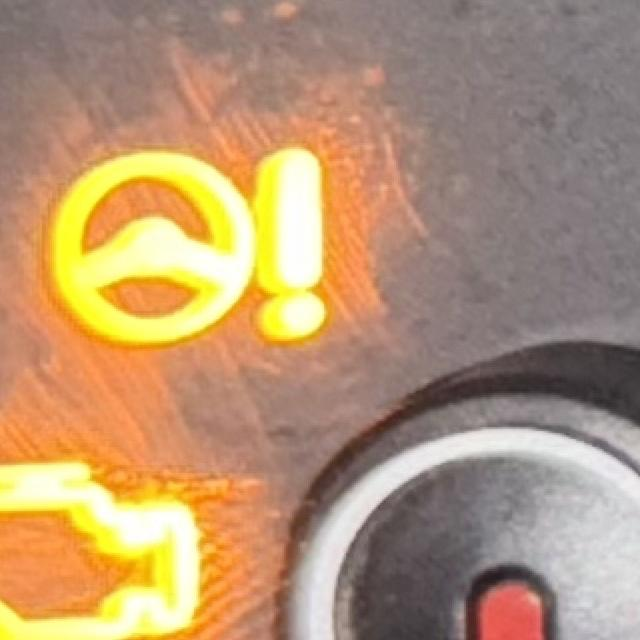Steering Wheel Locked: (44, 143, 342, 353)
